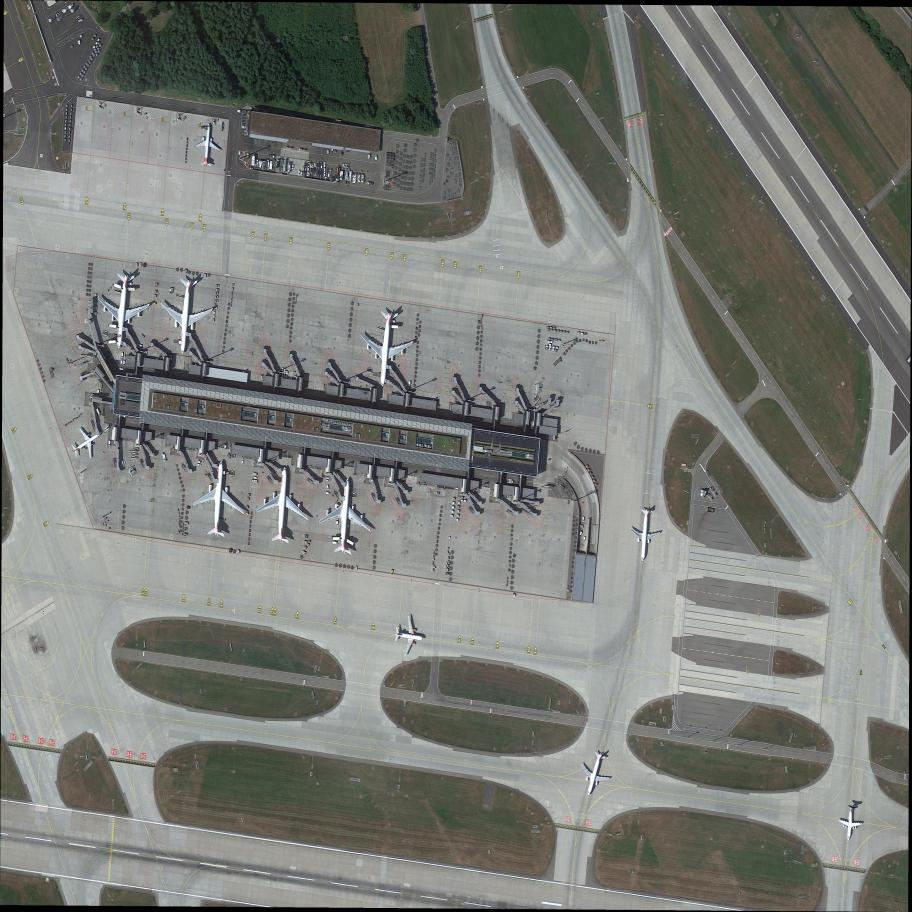plane: (316, 464, 378, 564), (354, 302, 421, 392), (186, 455, 253, 545), (154, 275, 223, 360), (253, 462, 316, 550), (92, 269, 155, 354), (569, 741, 624, 808), (63, 416, 111, 471), (626, 506, 666, 566), (392, 610, 428, 660), (193, 121, 224, 171), (835, 803, 868, 845)
small-vehicle: (96, 408, 101, 416), (251, 479, 258, 484), (136, 343, 143, 347), (140, 333, 145, 338), (326, 484, 330, 490), (336, 518, 339, 526), (108, 440, 111, 447), (197, 463, 202, 467), (241, 458, 244, 464), (583, 536, 586, 542), (120, 359, 123, 365), (292, 164, 295, 170), (307, 165, 310, 171), (320, 163, 323, 169), (198, 460, 202, 464), (325, 492, 330, 495), (455, 487, 460, 490), (408, 382, 411, 387), (119, 368, 124, 371), (241, 125, 246, 128), (298, 170, 301, 175), (347, 522, 349, 529), (368, 153, 370, 160), (375, 154, 377, 161), (583, 516, 585, 522), (123, 360, 125, 366), (121, 352, 123, 358), (307, 171, 309, 177), (324, 162, 326, 168), (301, 172, 303, 177), (324, 168, 326, 173), (326, 480, 330, 482), (327, 477, 331, 479), (324, 173, 325, 177)
